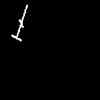double_crochet: (12, 5, 27, 40)
